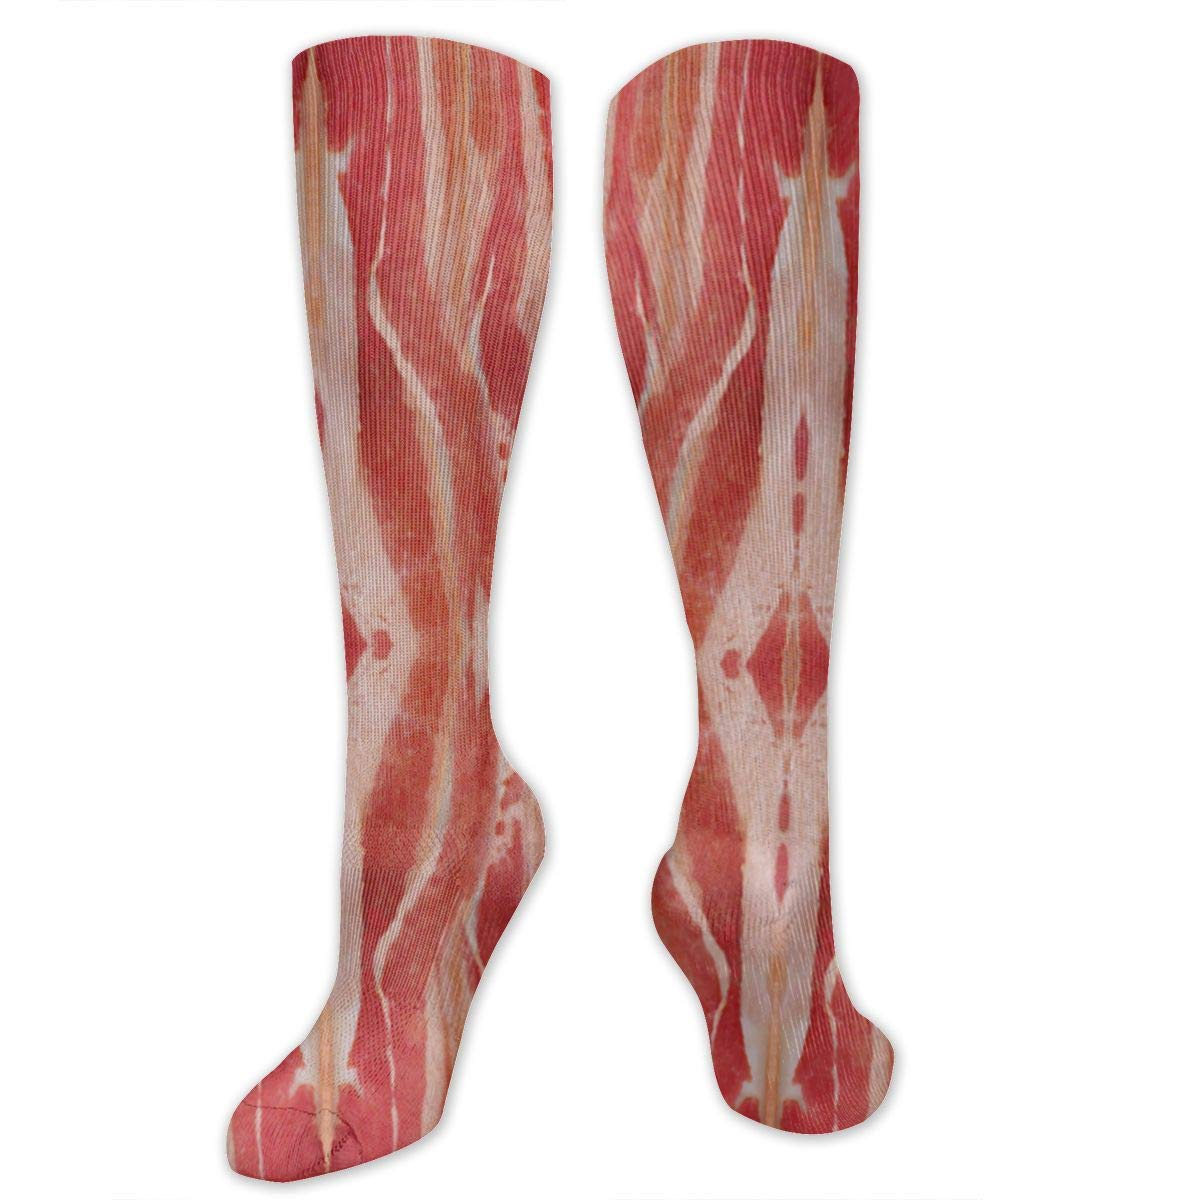bacon: (199, 63, 562, 602), (580, 74, 895, 560)
